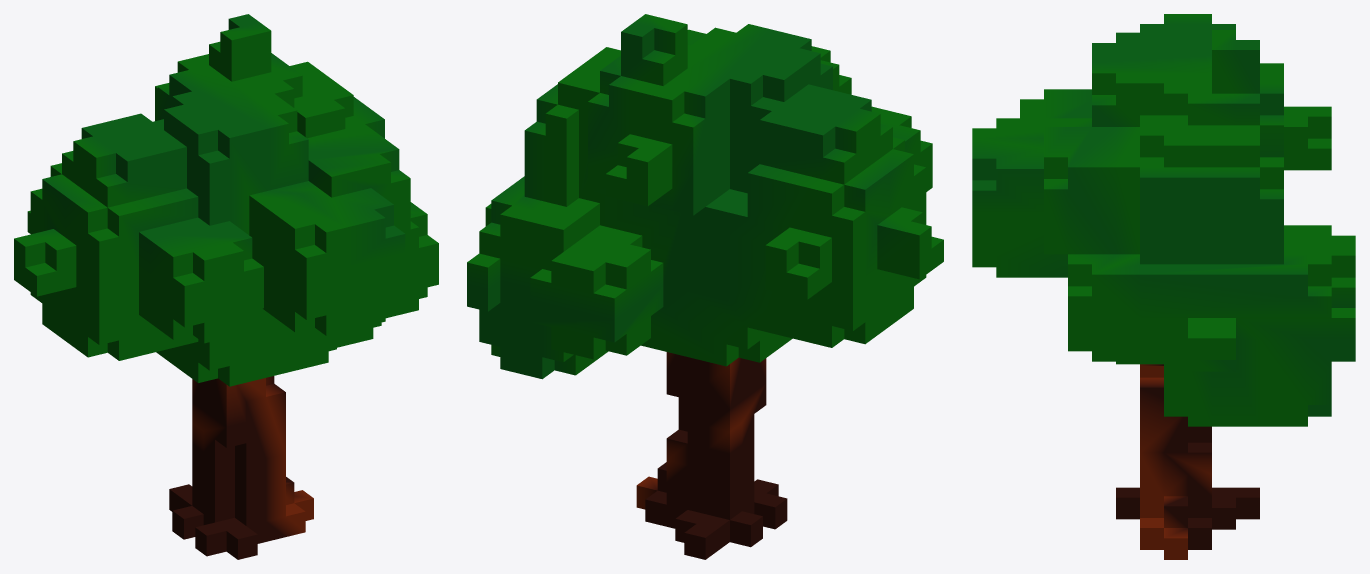
File: Tree_9.fbx
3 views of the same model, side by side, from view 1: azimuth 30°, elevation 25°; view 2: azimuth 150°, elevation 25°; view 3: azimuth 270°, elevation 25° (orthographic). The views are drawn at different scales.
Parts seen in each view (by area): view 1: Tree_9; view 2: Tree_9; view 3: Tree_9.
Boxes of the visible parts, x1=… form: Tree_9: x1=14, y1=14, x2=438, y2=559; Tree_9: x1=467, y1=14, x2=943, y2=559; Tree_9: x1=972, y1=14, x2=1355, y2=559.
Bounding box in the file's own units: 355 × 408 × 284.
